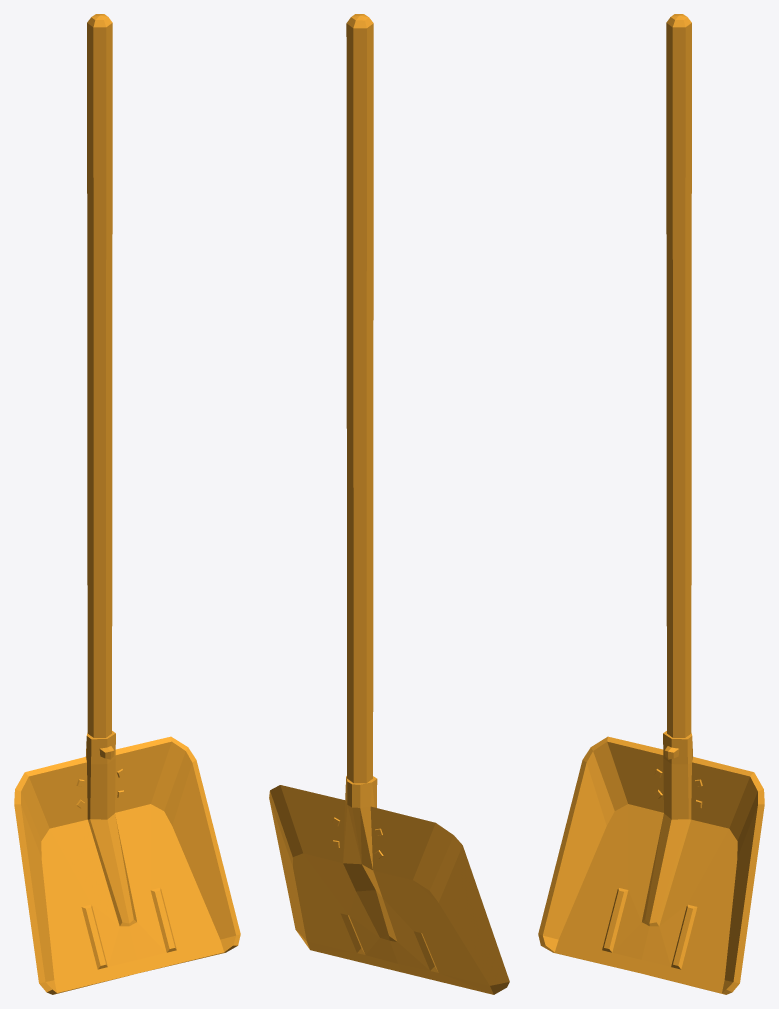
File: SM_Shovel_Farm_C.fbx
The picture shows the model from 3 angles, left to right: view 1: azimuth 30°, elevation 25°; view 2: azimuth 150°, elevation 25°; view 3: azimuth 330°, elevation 25°; orthographic projection. The views are drawn at different scales.
Visible parts, largest first — view 1: shovel-farm-c; view 2: shovel-farm-c; view 3: shovel-farm-c.
Part boxes in pixels (left/top/right/bottom): shovel-farm-c: left=14, top=14, right=240, bottom=994; shovel-farm-c: left=269, top=14, right=509, bottom=994; shovel-farm-c: left=538, top=14, right=764, bottom=994.
Size of the model in its own units: 0.305 by 1.34 by 0.1326.
